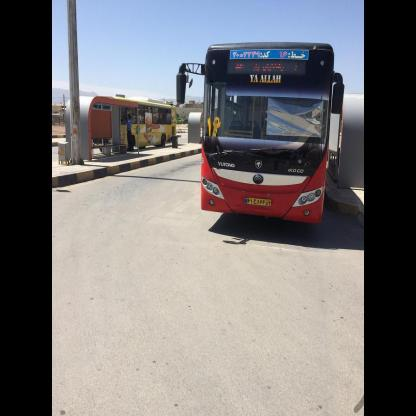Bus: (176, 17, 341, 261), (71, 82, 173, 158)
